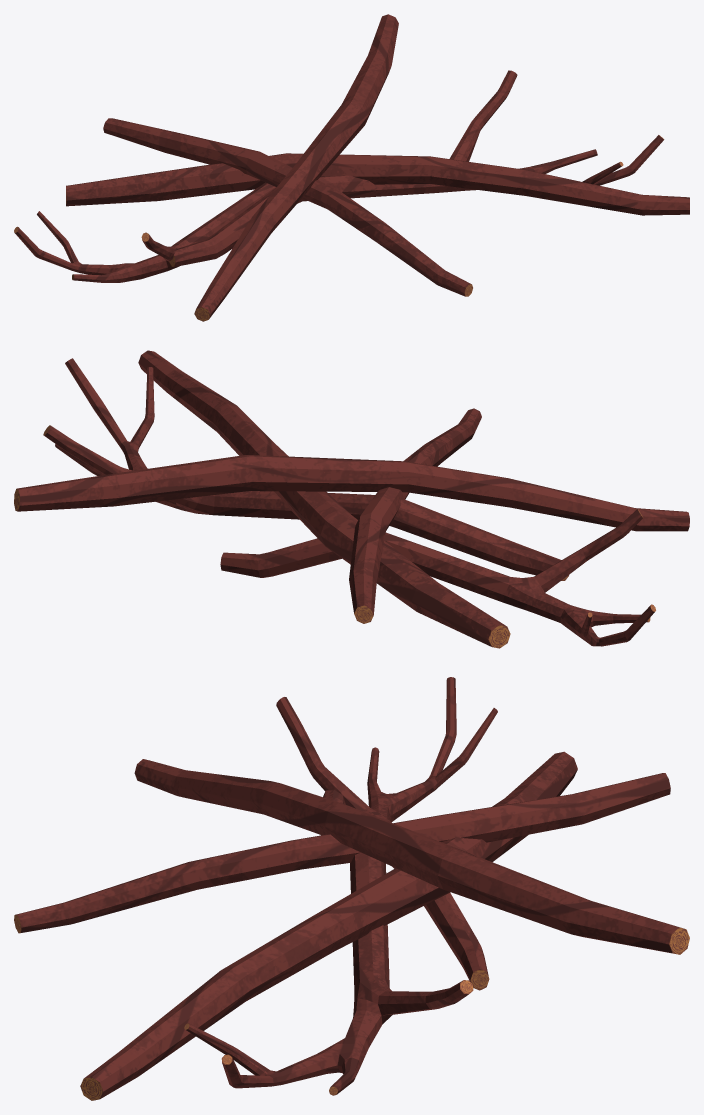
The model's file is Sticks.fbx.
The picture shows the model from 3 angles, top to bottom: view 1: azimuth 30°, elevation 25°; view 2: azimuth 150°, elevation 25°; view 3: azimuth 270°, elevation 25°; orthographic projection. The views are drawn at different scales.
Visible parts, largest first — view 1: Палки; view 2: Палки; view 3: Палки.
Boxes of the visible parts, left/top/right/bottom form: Палки: left=14, top=14, right=689, bottom=321; Палки: left=14, top=350, right=689, bottom=648; Палки: left=14, top=677, right=689, bottom=1100.
Bounding box in the file's own units: 911 × 157 × 651.
